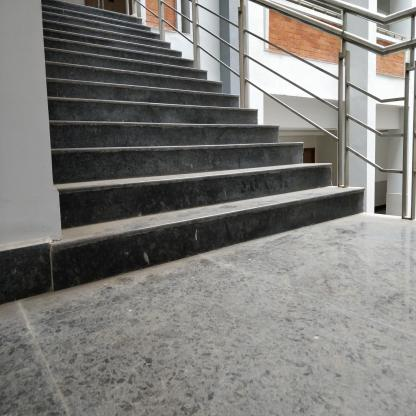stairs: (67, 24, 145, 297)
